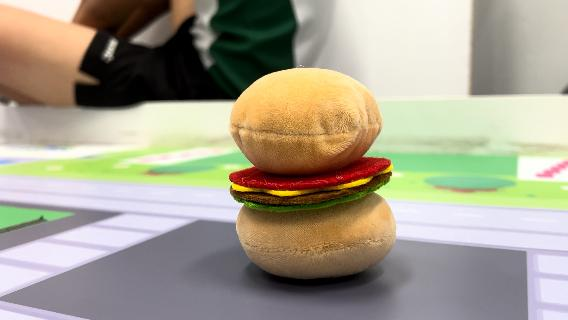burger: (224, 63, 402, 281)
